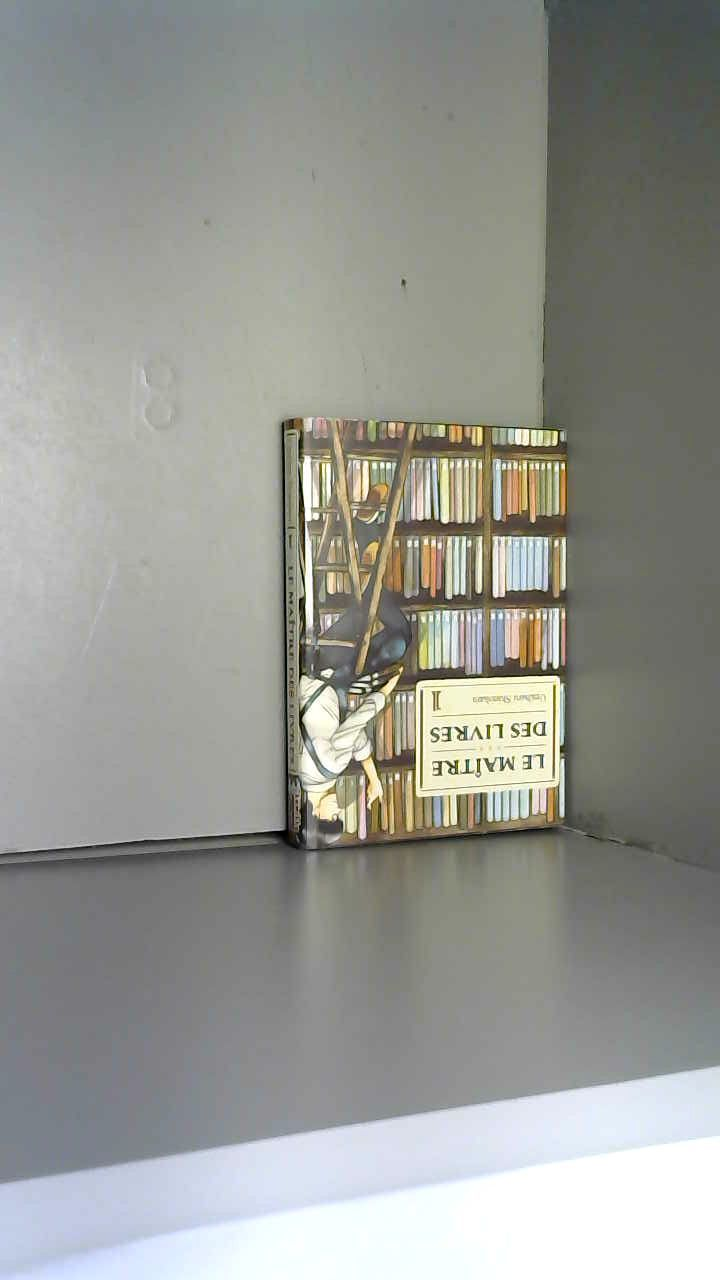book: (266, 404, 584, 872)
